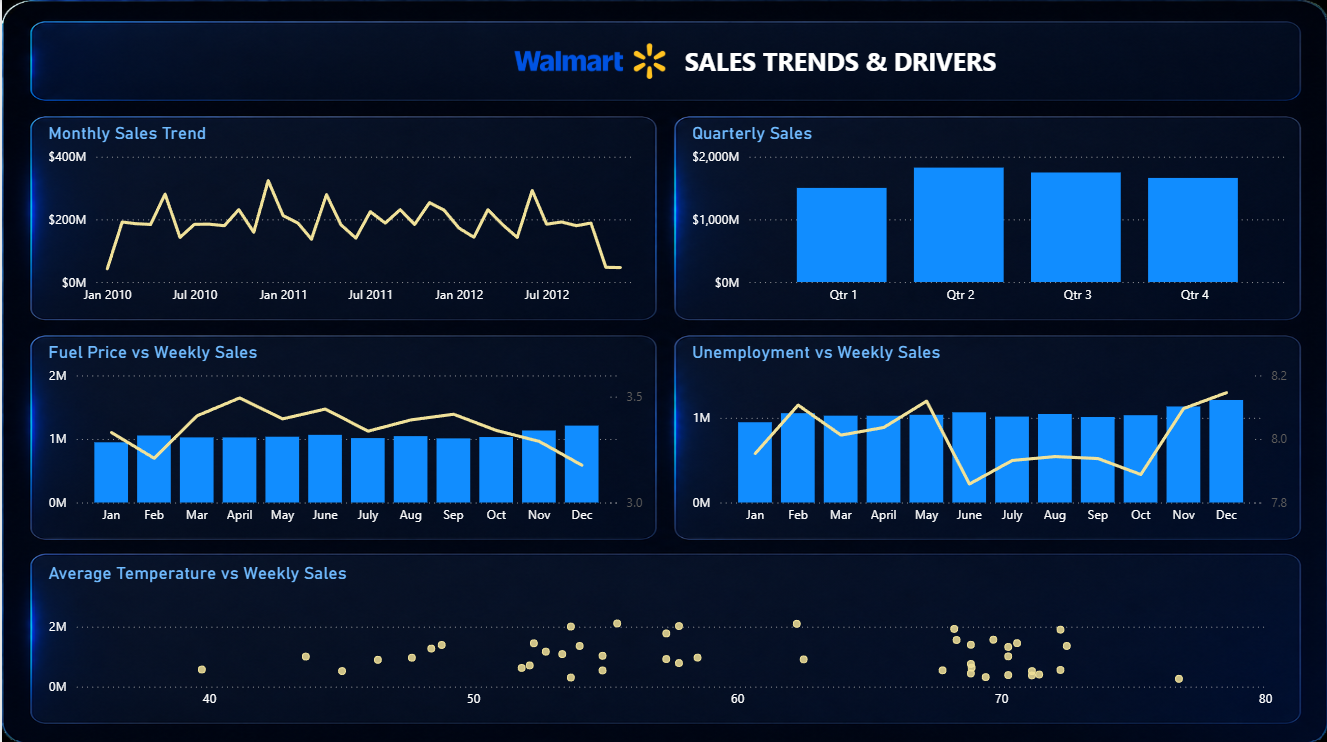

What the dashboard file says about the page in this screenshot:
{"tool":"powerbi","page":{"name":"Sales Trends","canvas":[1280,720],"ordinal":1},"visuals":[{"type":"textbox","box":[653.3,36,311.3,47.3],"z":0},{"type":"image","box":[494.7,41.3,145.3,36.7],"z":1000},{"type":"lineChart","title":"Monthly Sales Trend","fields":{"Y":["cleaned_walmart.total_sales"],"Category":["cleaned_walmart.Date.Variation.Date Hierarchy.Year","cleaned_walmart.Date.Variation.Date Hierarchy.Month"]},"box":[40,118.3,584.2,184.2],"z":2000},{"type":"clusteredColumnChart","title":"Quarterly Sales","fields":{"Category":["cleaned_walmart.Date.Variation.Date Hierarchy.Quarter"],"Y":["cleaned_walmart.total_sales"]},"box":[660.8,118.3,585.8,184.2],"z":3000},{"type":"lineClusteredColumnComboChart","title":"Fuel Price vs Weekly Sales","fields":{"Category":["cleaned_walmart.Month"],"Y":["cleaned_walmart.AVG weekly Sales"],"Y2":["cleaned_walmart.AVG Fuel Price"]},"box":[40,329.2,584.2,185.8],"z":4000},{"type":"lineClusteredColumnComboChart","title":"Unemployment vs Weekly Sales","fields":{"Category":["cleaned_walmart.Month"],"Y":["cleaned_walmart.AVG weekly Sales"],"Y2":["Avg(cleaned_walmart.Unemployment)"]},"box":[660.8,329.2,585,185.8],"z":5000},{"type":"scatterChart","title":"Average Temperature vs Weekly Sales","fields":{"Category":["cleaned_walmart.Store"],"X":["Avg(cleaned_walmart.Temperature)"],"Y":["Avg(cleaned_walmart.Weekly_Sales)"]},"box":[40,543.3,1191.7,150],"z":6000}]}

Visuals, with their boxes in screenshot pixels (x1, y1, x2, y2), scaled from the page's 1280x720 canvas onto the 1327x742 screenshot:
textbox: <bbox>677, 37, 1000, 86</bbox>
image: <bbox>513, 43, 664, 80</bbox>
"Monthly Sales Trend" lineChart: <bbox>41, 122, 647, 312</bbox>
"Quarterly Sales" clusteredColumnChart: <bbox>685, 122, 1292, 312</bbox>
"Fuel Price vs Weekly Sales" lineClusteredColumnComboChart: <bbox>41, 339, 647, 531</bbox>
"Unemployment vs Weekly Sales" lineClusteredColumnComboChart: <bbox>685, 339, 1292, 531</bbox>
"Average Temperature vs Weekly Sales" scatterChart: <bbox>41, 560, 1277, 714</bbox>
